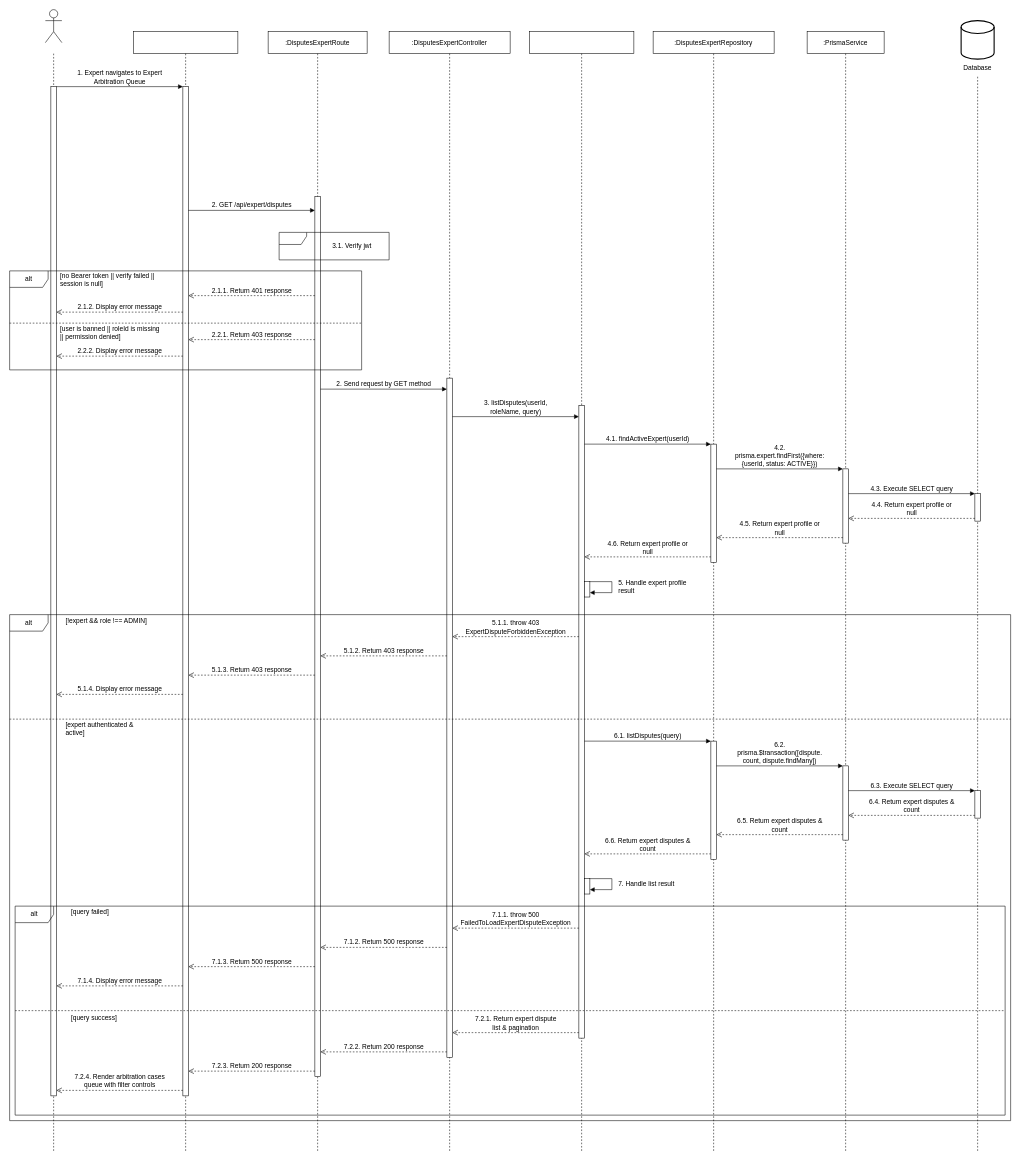
This 1021x1161 diagram has some shape labels left out. The box of each missing label's shape, as (x1, y1, x2, y2) in pixels:
:DisputesExpertService: (529, 31, 634, 1151)
:ExpertDisputeListPage: (133, 31, 238, 1151)
Expert / Admin: (45, 9, 62, 43)
ref: (279, 232, 389, 260)
